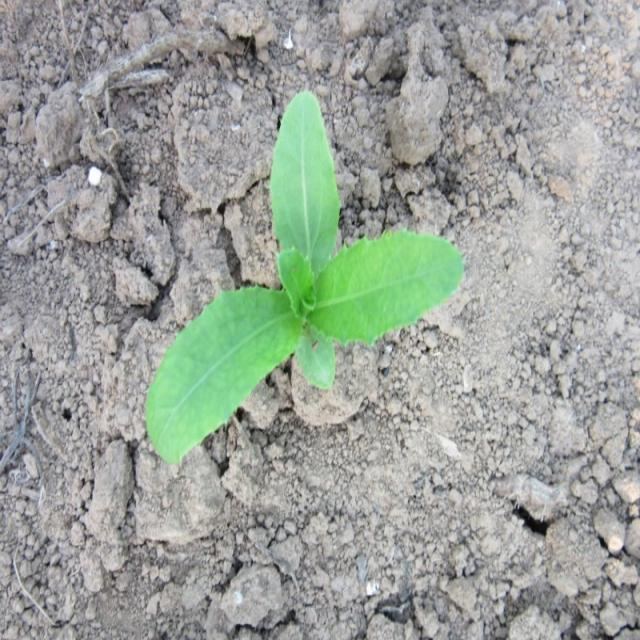cs: (144, 90, 465, 463)
